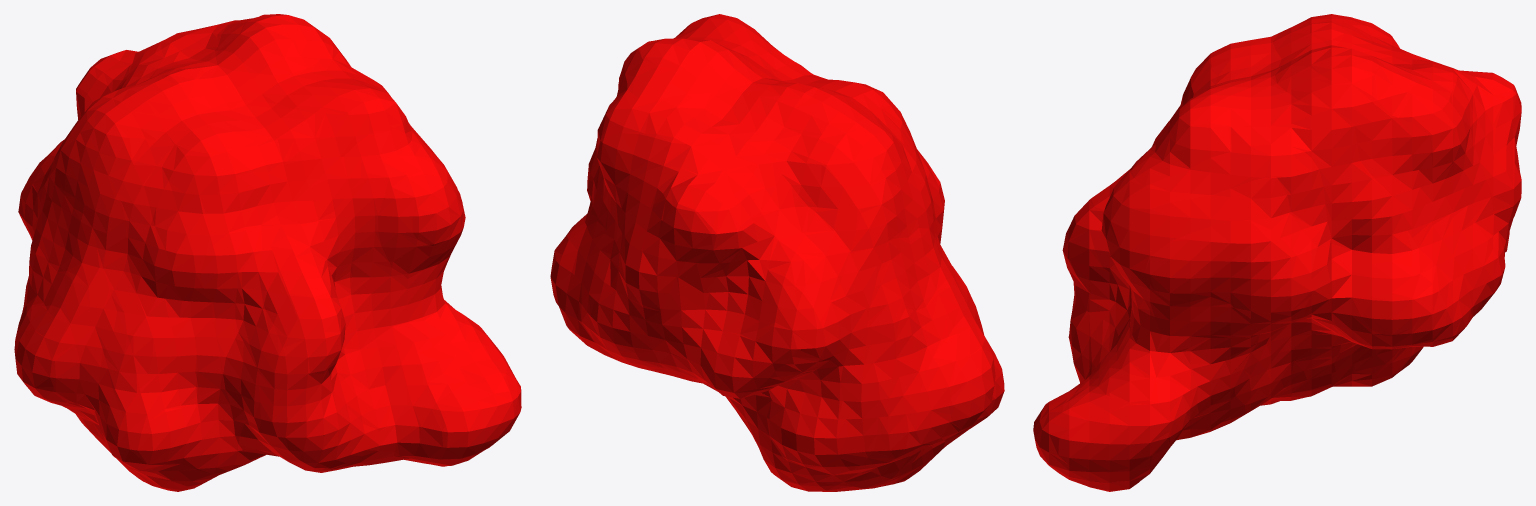
The model's file is fabB_coarse.dae.
The picture shows the model from 3 angles, left to right: view 1: azimuth 30°, elevation 25°; view 2: azimuth 150°, elevation 25°; view 3: azimuth 270°, elevation 25°; orthographic projection. The views are drawn at different scales.
Parts seen in each view (by area): view 1: fabB; view 2: fabB; view 3: fabB.
Part boxes in pixels (box(x1,y1,x2,y2)): fabB: box(14, 14, 521, 491); fabB: box(550, 14, 1004, 491); fabB: box(1033, 14, 1521, 491).
Size of the model in its own units: 58.26 by 55.88 by 58.33.
